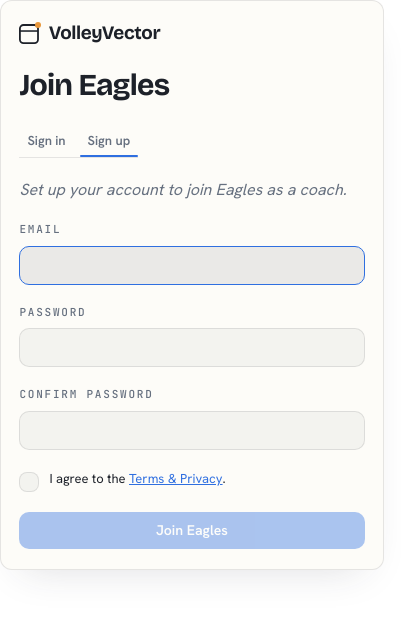
InviteAccept, account-creation password validation › a too-short password is blocked client-side
This screenshot has width=401, height=634.
Type "new@eagles.test" into the field labelled "Email" at (192, 265), box [19,246,365,285]
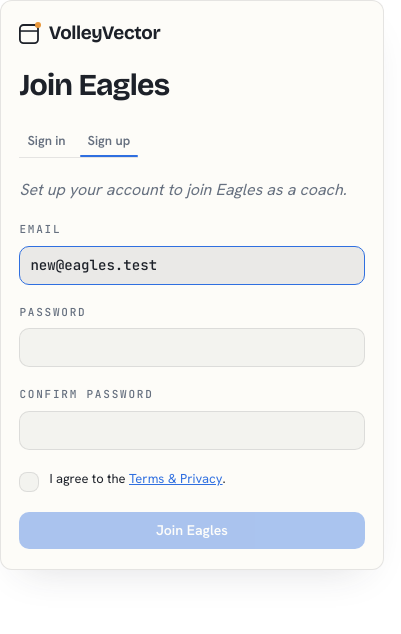
Type "short" into the password field labelled "Password" at (192, 348), box [19,328,365,367]
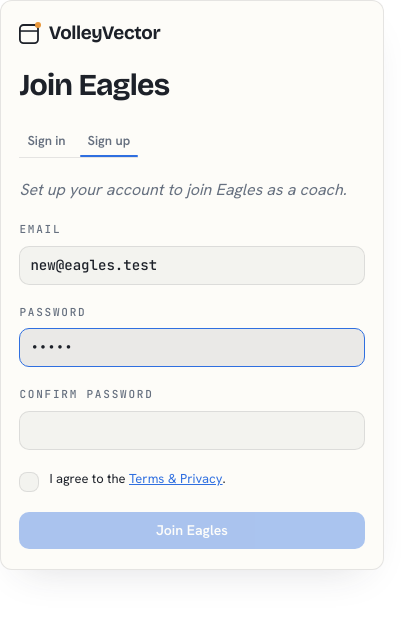
Type "short" into the password field labelled "Confirm password" at (192, 430), box [19,411,365,450]
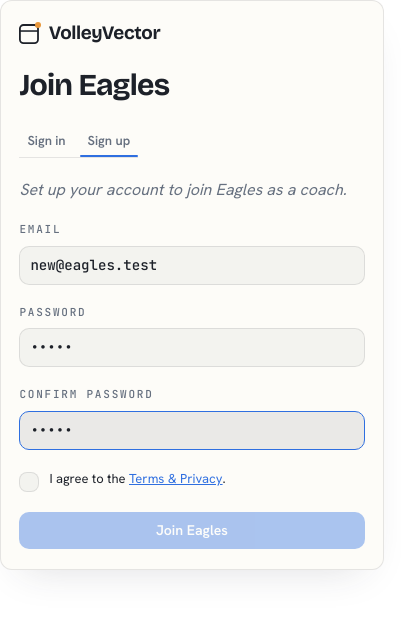
Click the checkbox named "Terms & Privacy" at (29, 482), box [19,472,39,492]
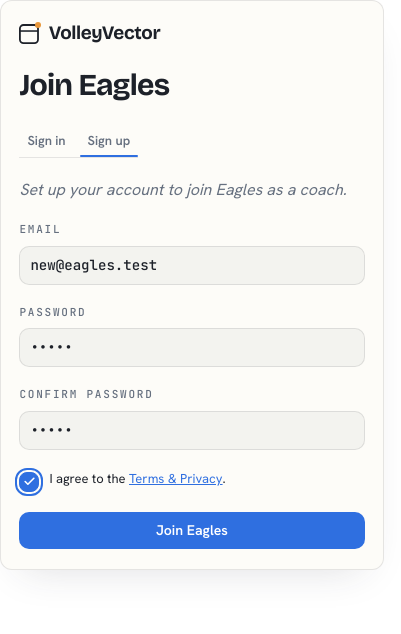
Click the button "Join Eagles" at (192, 530), box [19,512,365,549]
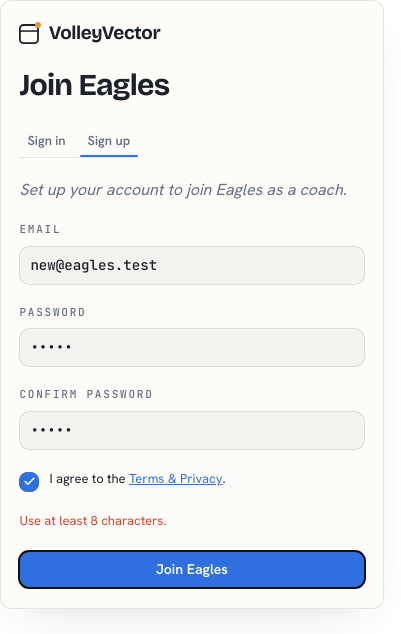
Result: the text "Use at least 8 characters." is shown at [19,512,166,529]
